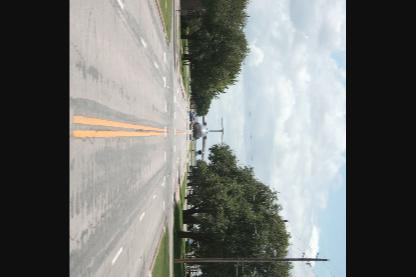C17: (193, 114, 224, 161)
